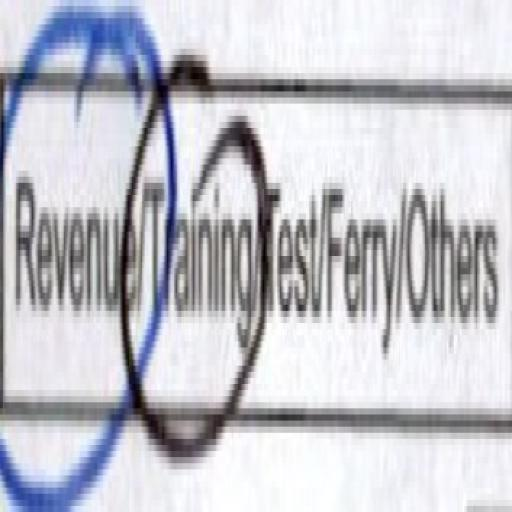check: (0, 0, 137, 512), (145, 6, 258, 512)
